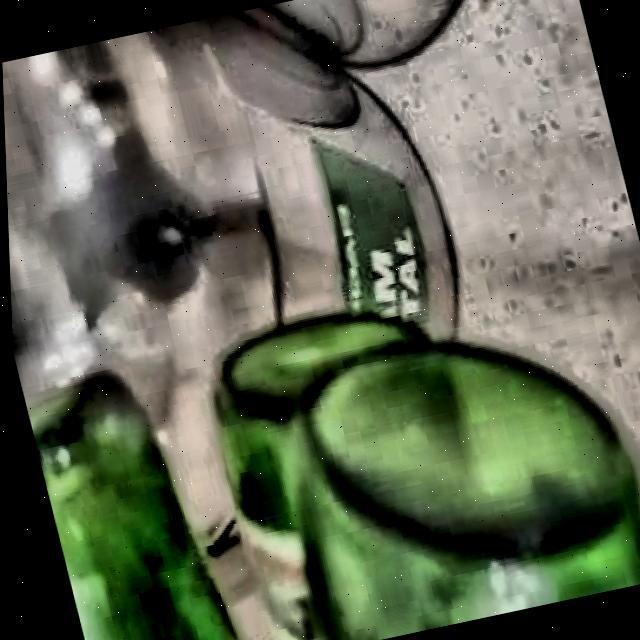glass: (209, 311, 640, 640)
